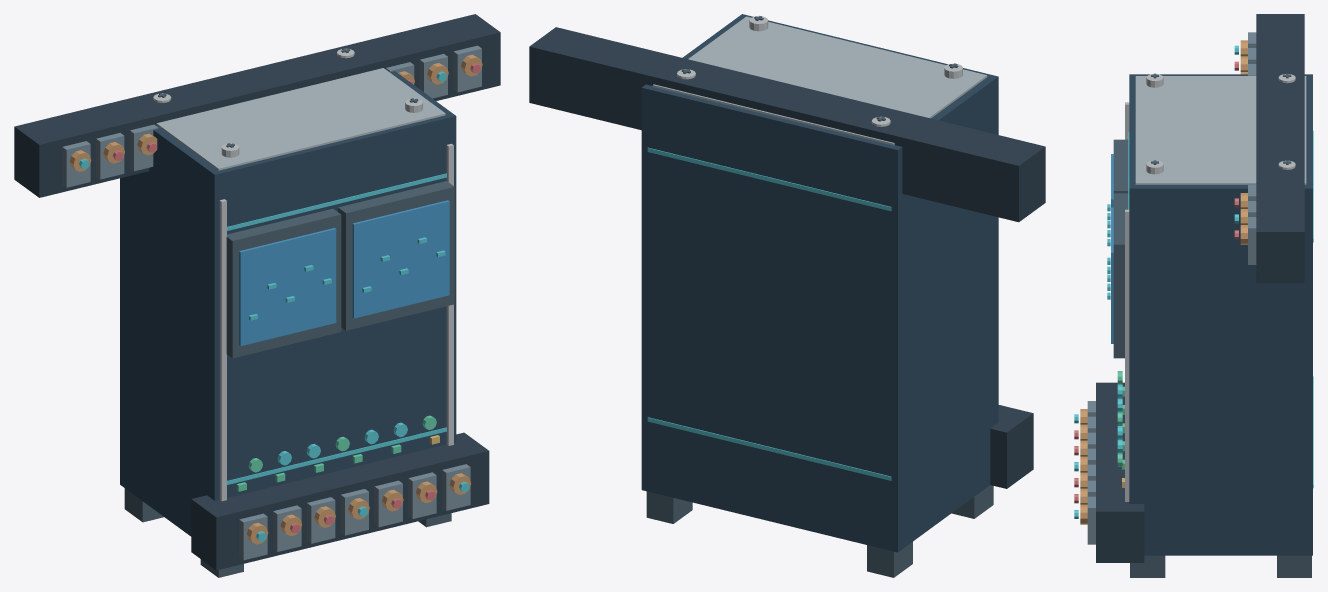
The model's file is 51_L78_DielectricLeakageCurrentElectrometer.glb.
The picture shows the model from 3 angles, left to right: view 1: azimuth 30°, elevation 25°; view 2: azimuth 150°, elevation 25°; view 3: azimuth 270°, elevation 25°; orthographic projection. The views are drawn at different scales.
Visible parts, largest first — view 1: DielectricLeakageCurrentElectrometer_Node_0000, DielectricLeakageCurrentElectrometer_Node_0007, DielectricLeakageCurrentElectrometer_Node_0077, DielectricLeakageCurrentElectrometer_Node_0049, DielectricLeakageCurrentElectrometer_Node_0032, DielectricLeakageCurrentElectrometer_Node_0025, DielectricLeakageCurrentElectrometer_Node_0102, DielectricLeakageCurrentElectrometer_Node_0024, DielectricLeakageCurrentElectrometer_Node_0031, DielectricLeakageCurrentElectrometer_Node_0005, DielectricLeakageCurrentElectrometer_Node_0006, DielectricLeakageCurrentElectrometer_Node_0023 (+14 smaller); view 2: DielectricLeakageCurrentElectrometer_Node_0000, DielectricLeakageCurrentElectrometer_Node_0077, DielectricLeakageCurrentElectrometer_Node_0007, DielectricLeakageCurrentElectrometer_Node_0102, DielectricLeakageCurrentElectrometer_Node_0049, DielectricLeakageCurrentElectrometer_Node_0020, DielectricLeakageCurrentElectrometer_Node_0022, DielectricLeakageCurrentElectrometer_Node_0045, DielectricLeakageCurrentElectrometer_Node_0047, DielectricLeakageCurrentElectrometer_Node_0046; view 3: DielectricLeakageCurrentElectrometer_Node_0000, DielectricLeakageCurrentElectrometer_Node_0007, DielectricLeakageCurrentElectrometer_Node_0077, DielectricLeakageCurrentElectrometer_Node_0102, DielectricLeakageCurrentElectrometer_Node_0049, DielectricLeakageCurrentElectrometer_Node_0031, DielectricLeakageCurrentElectrometer_Node_0006, DielectricLeakageCurrentElectrometer_Node_0024, DielectricLeakageCurrentElectrometer_Node_0047, DielectricLeakageCurrentElectrometer_Node_0048, DielectricLeakageCurrentElectrometer_Node_0068, DielectricLeakageCurrentElectrometer_Node_0124 (+1 smaller).
Part boxes in pixels (x1,y1,x2,y2): DielectricLeakageCurrentElectrometer_Node_0000: (120, 69, 456, 536); DielectricLeakageCurrentElectrometer_Node_0007: (156, 68, 445, 170); DielectricLeakageCurrentElectrometer_Node_0077: (14, 52, 345, 197); DielectricLeakageCurrentElectrometer_Node_0049: (191, 432, 489, 570); DielectricLeakageCurrentElectrometer_Node_0032: (352, 200, 449, 318); DielectricLeakageCurrentElectrometer_Node_0025: (239, 228, 336, 346); DielectricLeakageCurrentElectrometer_Node_0102: (189, 14, 500, 112); DielectricLeakageCurrentElectrometer_Node_0024: (226, 208, 341, 358); DielectricLeakageCurrentElectrometer_Node_0031: (338, 181, 454, 330); DielectricLeakageCurrentElectrometer_Node_0005: (219, 199, 226, 501); DielectricLeakageCurrentElectrometer_Node_0006: (446, 143, 453, 445); DielectricLeakageCurrentElectrometer_Node_0023: (227, 173, 446, 230); DielectricLeakageCurrentElectrometer_Node_0000: (641, 14, 998, 552); DielectricLeakageCurrentElectrometer_Node_0077: (693, 67, 1045, 222); DielectricLeakageCurrentElectrometer_Node_0007: (652, 16, 987, 145); DielectricLeakageCurrentElectrometer_Node_0102: (529, 27, 878, 132); DielectricLeakageCurrentElectrometer_Node_0049: (990, 405, 1033, 488); DielectricLeakageCurrentElectrometer_Node_0020: (647, 417, 891, 480); DielectricLeakageCurrentElectrometer_Node_0022: (647, 147, 891, 211); DielectricLeakageCurrentElectrometer_Node_0045: (867, 542, 912, 577); DielectricLeakageCurrentElectrometer_Node_0047: (646, 491, 692, 523); DielectricLeakageCurrentElectrometer_Node_0046: (951, 485, 993, 518); DielectricLeakageCurrentElectrometer_Node_0000: (1129, 74, 1312, 555); DielectricLeakageCurrentElectrometer_Node_0007: (1135, 76, 1306, 184); DielectricLeakageCurrentElectrometer_Node_0077: (1256, 14, 1304, 158); DielectricLeakageCurrentElectrometer_Node_0102: (1256, 87, 1304, 283); DielectricLeakageCurrentElectrometer_Node_0049: (1096, 382, 1144, 562); DielectricLeakageCurrentElectrometer_Node_0031: (1113, 193, 1128, 358); DielectricLeakageCurrentElectrometer_Node_0006: (1125, 209, 1129, 501); DielectricLeakageCurrentElectrometer_Node_0024: (1113, 139, 1128, 193); DielectricLeakageCurrentElectrometer_Node_0047: (1277, 555, 1311, 577); DielectricLeakageCurrentElectrometer_Node_0048: (1130, 555, 1165, 577); DielectricLeakageCurrentElectrometer_Node_0068: (1087, 496, 1095, 544); DielectricLeakageCurrentElectrometer_Node_0124: (1248, 217, 1256, 264).
Size of the model in its own units: 1.91 by 1.65 by 0.8872.
